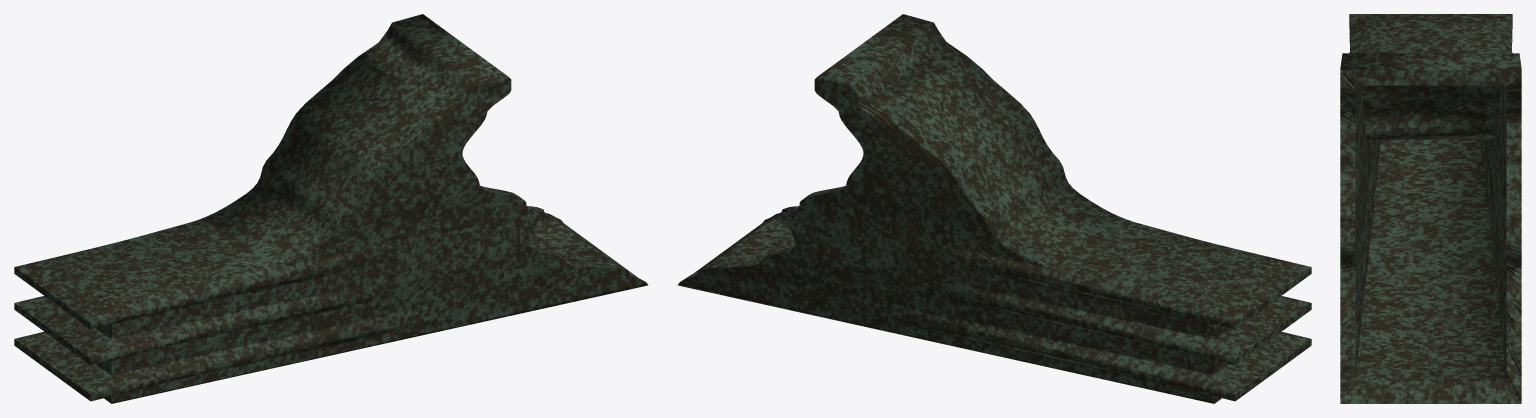
The model's file is NEW693_BronzeRam_LOD1.glb.
3 views of the same model, side by side, from view 1: azimuth 30°, elevation 25°; view 2: azimuth 150°, elevation 25°; view 3: azimuth 270°, elevation 25° (orthographic). The views are drawn at different scales.
Parts seen in each view (by area): view 1: Complete_bronze_ram_artifact_open_aft_socket; view 2: Complete_bronze_ram_artifact_open_aft_socket; view 3: Complete_bronze_ram_artifact_open_aft_socket.
Boxes of the visible parts, x1,y1,x2,y2 form: Complete_bronze_ram_artifact_open_aft_socket: (14,14,648,403); Complete_bronze_ram_artifact_open_aft_socket: (677,14,1311,403); Complete_bronze_ram_artifact_open_aft_socket: (1340,14,1521,403).
Size of the model in its own units: 2.26 by 0.95 by 0.6.
Materials: 1 (1 with a texture image).
